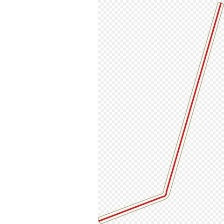drinking_straw: (96, 0, 224, 224)
